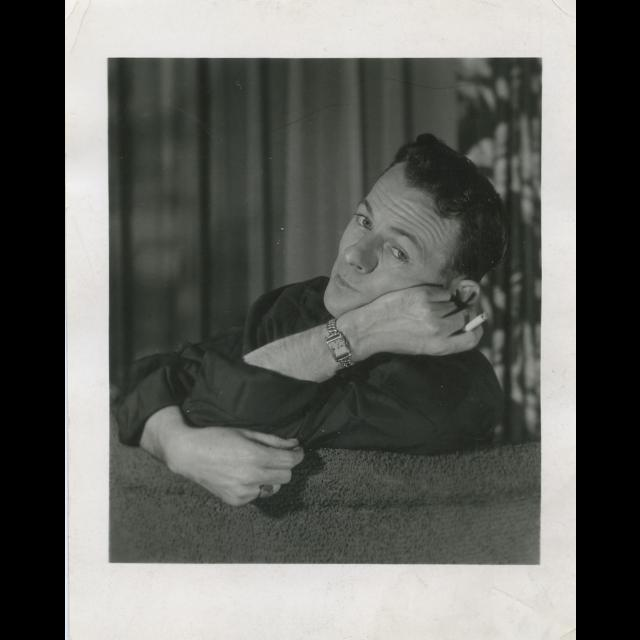rokok: (462, 310, 486, 334)
